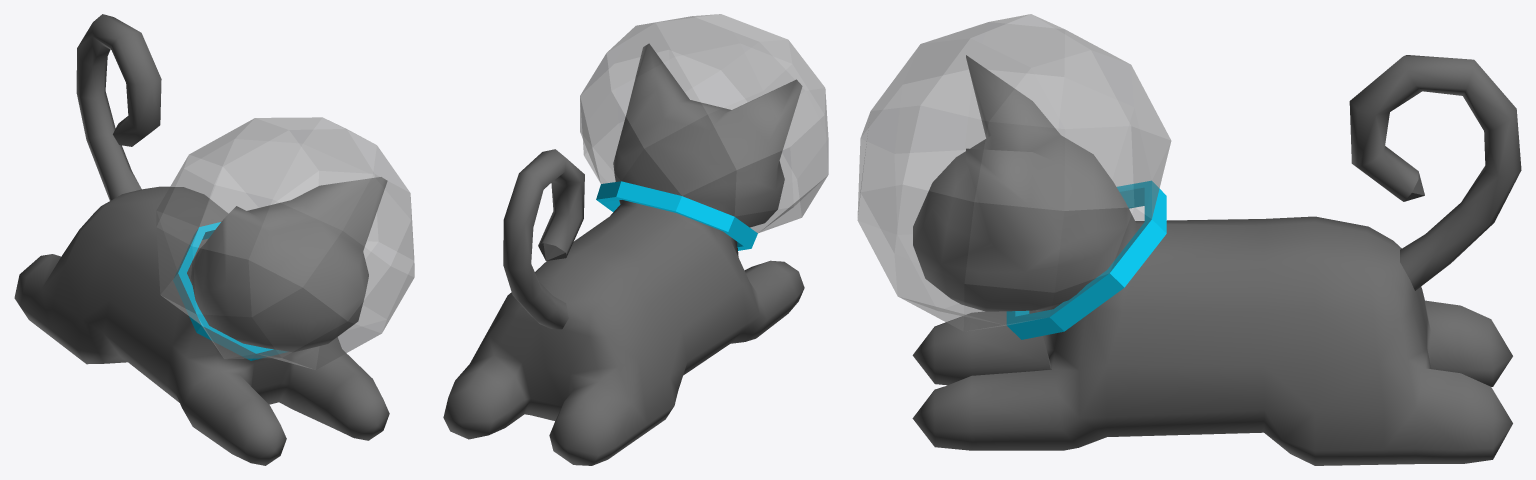
The model's file is MD_SagaraDoll_251229.fbx.
The picture shows the model from 3 angles, left to right: view 1: azimuth 30°, elevation 25°; view 2: azimuth 150°, elevation 25°; view 3: azimuth 270°, elevation 25°; orthographic projection. The views are drawn at different scales.
Visible parts, largest first — view 1: pCube45, polySurface21, polySurface22; view 2: pCube45, polySurface21, polySurface22; view 3: pCube45, polySurface21, polySurface22.
Boxes of the visible parts, <box> form: pCube45: <box>14,14,389,465</box>; polySurface21: <box>156,117,414,369</box>; polySurface22: <box>173,222,287,360</box>; pCube45: <box>443,43,804,465</box>; polySurface21: <box>580,14,828,233</box>; polySurface22: <box>596,181,757,250</box>; pCube45: <box>912,55,1521,465</box>; polySurface21: <box>857,14,1171,331</box>; polySurface22: <box>1006,180,1166,339</box>.
Bounding box in the file's own units: 82.49 × 111 × 173.
